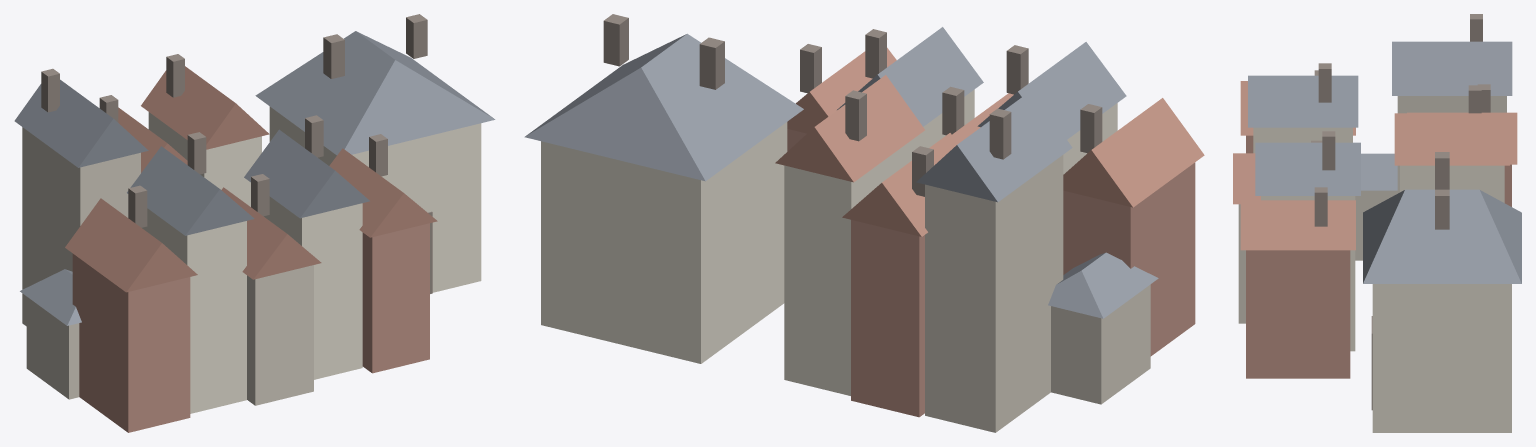
Rendered from CityLevel1.fbx.
3 views of the same model, side by side, from view 1: azimuth 30°, elevation 25°; view 2: azimuth 150°, elevation 25°; view 3: azimuth 270°, elevation 25° (orthographic). The views are drawn at different scales.
Visible parts, largest first — view 1: CityLevel1; view 2: CityLevel1; view 3: CityLevel1.
Part boxes in pixels (box(x1,y1,x2,y2)): CityLevel1: box(14, 14, 495, 432); CityLevel1: box(524, 14, 1204, 432); CityLevel1: box(1233, 14, 1521, 432).
Bounding box in the file's own units: 0.97 × 0.5418 × 0.581.
